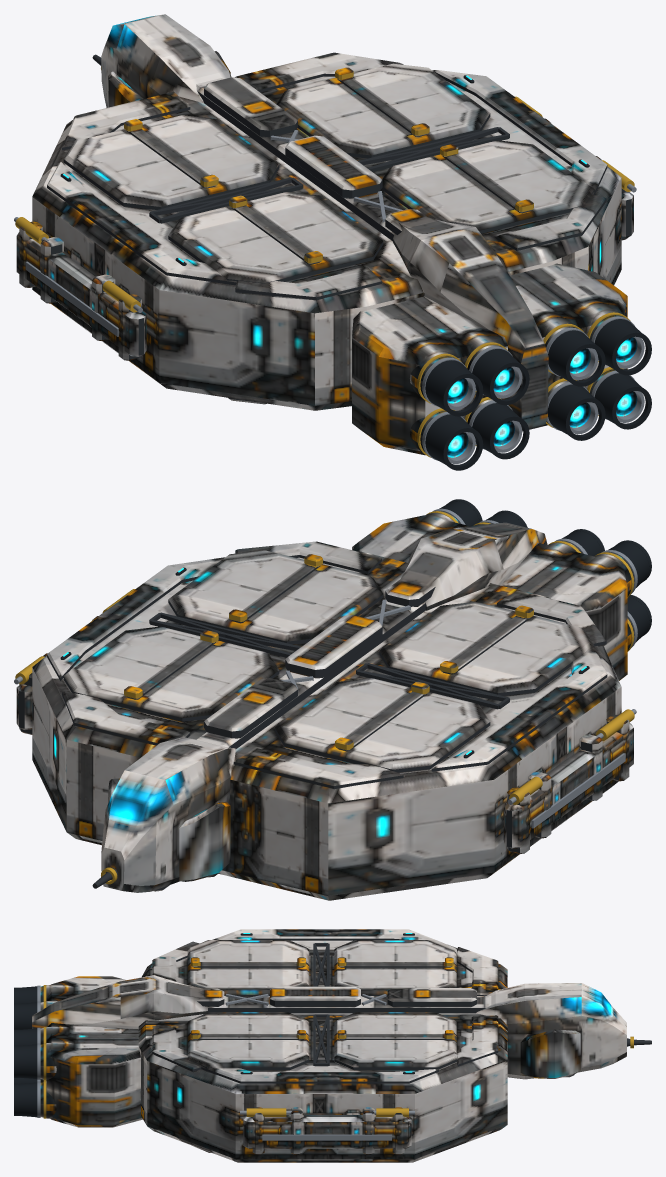
The model's file is heavy-freighter.glb.
3 renders of one model, top to bottom at view 1: azimuth 30°, elevation 25°; view 2: azimuth 150°, elevation 25°; view 3: azimuth 270°, elevation 25°, orthographic. The views are drawn at different scales.
Parts seen in each view (by area): view 1: Reference artwork | titanium, brass, panels and canopy, Structural frames | gunmetal, Structural rails | dark alloy, Machined titanium edges, Warm brass collars, Ventral armor | dedicated bottom-view reference; view 2: Reference artwork | titanium, brass, panels and canopy, Structural frames | gunmetal, Structural rails | dark alloy, Ventral armor | dedicated bottom-view reference, Warm brass collars, Machined titanium edges; view 3: Reference artwork | titanium, brass, panels and canopy, Structural frames | gunmetal, Structural rails | dark alloy, Ventral armor | dedicated bottom-view reference, Machined titanium edges, Warm brass collars.
Boxes of the visible parts, bbox=[...] form: Reference artwork | titanium, brass, panels and canopy: bbox=[16, 14, 637, 457]; Structural frames | gunmetal: bbox=[29, 54, 631, 401]; Structural rails | dark alloy: bbox=[60, 75, 651, 470]; Machined titanium edges: bbox=[14, 130, 644, 463]; Warm brass collars: bbox=[15, 66, 634, 457]; Ventral armor | dedicated bottom-view reference: bbox=[23, 80, 630, 455]; Reference artwork | titanium, brass, panels and canopy: bbox=[16, 513, 634, 896]; Structural frames | gunmetal: bbox=[19, 552, 619, 890]; Structural rails | dark alloy: bbox=[60, 499, 651, 758]; Ventral armor | dedicated bottom-view reference: bbox=[20, 566, 631, 900]; Warm brass collars: bbox=[15, 511, 634, 884]; Machined titanium edges: bbox=[14, 508, 637, 828]; Reference artwork | titanium, brass, panels and canopy: bbox=[32, 929, 626, 1159]; Structural frames | gunmetal: bbox=[152, 938, 651, 1151]; Structural rails | dark alloy: bbox=[14, 933, 414, 1117]; Ventral armor | dedicated bottom-view reference: bbox=[40, 966, 626, 1162]; Machined titanium edges: bbox=[37, 985, 414, 1140]; Warm brass collars: bbox=[43, 962, 633, 1118].
Size of the model in its own units: 9.63 by 2.8 by 14.86.
Materials: 7 (2 with a texture image).
